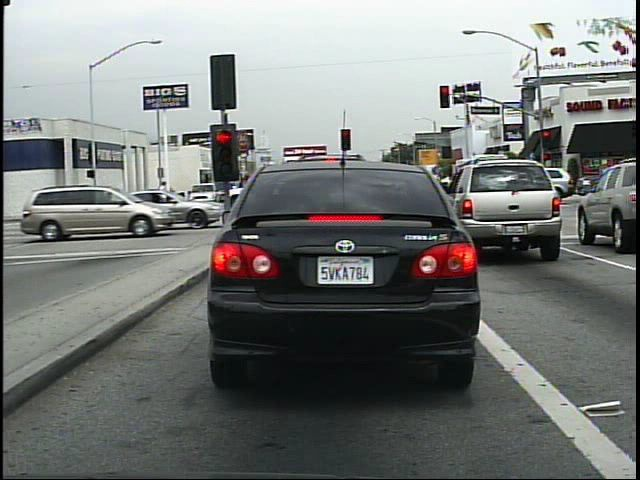person: (152, 178, 174, 217)
